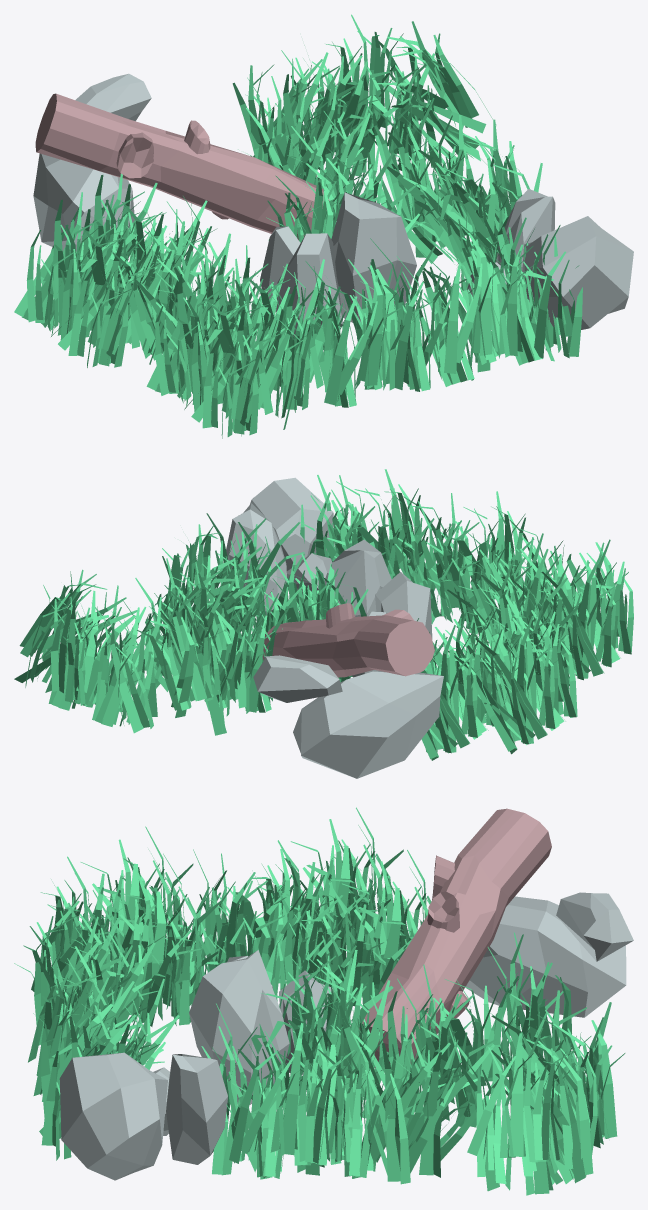
File: 042220shadowCastingScene01.gltf
3 renders of one model, top to bottom at view 1: azimuth 30°, elevation 25°; view 2: azimuth 150°, elevation 25°; view 3: azimuth 270°, elevation 25°, orthographic. The views are drawn at different scales.
Parts seen in each view (by area): view 1: Cube.003, Cube.009, Cube.001, Cube.004, Cube, Cube.008, Cube.010, Cube.002, Plane.285, Plane.457, Plane.411, Plane.224 (+8 smaller); view 2: Cube.004, Cube.003, Cube.009, Cube.008, Cube.001, Cube.010, Cube, Plane.776, Plane.947, Cube.011, Plane.765, Plane.1042 (+23 smaller); view 3: Cube.003, Cube.009, Cube.004, Cube.001, Cube.010, Cube.008, Plane.500, Plane.571, Plane.883, Cube.002, Plane.664, Plane.790 (+35 smaller).
Boxes of the visible parts, bbox=[...] form: Cube.003: bbox=[35, 93, 329, 240]; Cube.009: bbox=[522, 216, 633, 329]; Cube.001: bbox=[331, 192, 416, 322]; Cube.004: bbox=[33, 153, 134, 251]; Cube: bbox=[276, 233, 343, 337]; Cube.008: bbox=[75, 73, 151, 121]; Cube.010: bbox=[496, 189, 555, 270]; Cube.002: bbox=[260, 226, 300, 311]; Plane.285: bbox=[364, 265, 382, 386]; Plane.457: bbox=[468, 233, 492, 355]; Plane.411: bbox=[444, 263, 460, 373]; Plane.224: bbox=[324, 296, 357, 405]; Cube.004: bbox=[293, 671, 443, 778]; Cube.003: bbox=[262, 603, 434, 677]; Cube.009: bbox=[250, 477, 333, 570]; Cube.008: bbox=[253, 655, 342, 702]; Cube.001: bbox=[325, 539, 391, 616]; Cube.010: bbox=[226, 503, 286, 615]; Cube: bbox=[375, 571, 432, 639]; Plane.776: bbox=[110, 623, 143, 733]; Plane.947: bbox=[475, 638, 546, 739]; Cube.011: bbox=[286, 553, 332, 598]; Plane.765: bbox=[101, 607, 139, 726]; Plane.1042: bbox=[541, 571, 602, 676]; Cube.003: bbox=[359, 808, 551, 1067]; Cube.009: bbox=[59, 1052, 167, 1180]; Cube.004: bbox=[465, 896, 626, 1017]; Cube.001: bbox=[189, 950, 289, 1104]; Cube.010: bbox=[166, 1054, 227, 1164]; Cube.008: bbox=[556, 892, 633, 961]; Plane.500: bbox=[279, 1023, 303, 1155]; Plane.571: bbox=[509, 1033, 523, 1156]; Plane.883: bbox=[382, 1043, 400, 1181]; Cube.002: bbox=[279, 970, 333, 1075]; Plane.664: bbox=[419, 1052, 441, 1175]; Plane.790: bbox=[591, 1020, 617, 1138].
Size of the model in its own units: 74.47 by 25.5 by 71.
